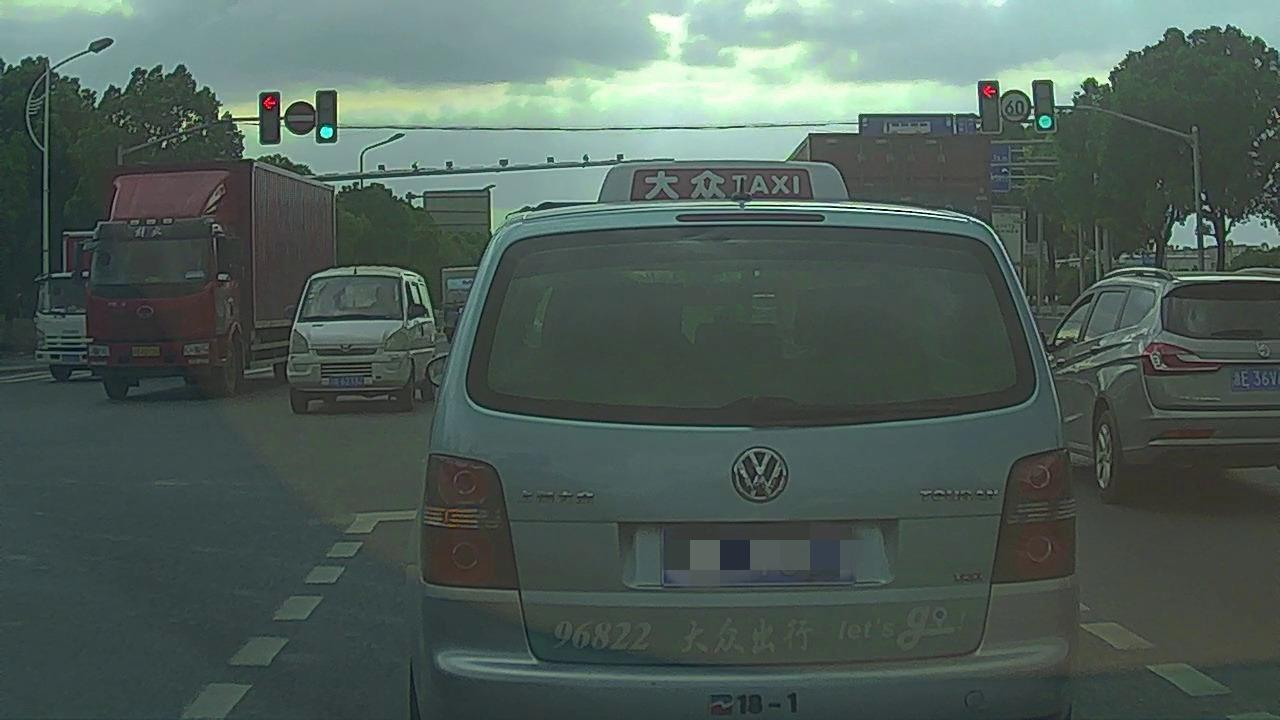traffic_light: (1029, 81, 1056, 131), (980, 81, 1000, 132), (318, 90, 337, 143), (261, 93, 279, 143)
